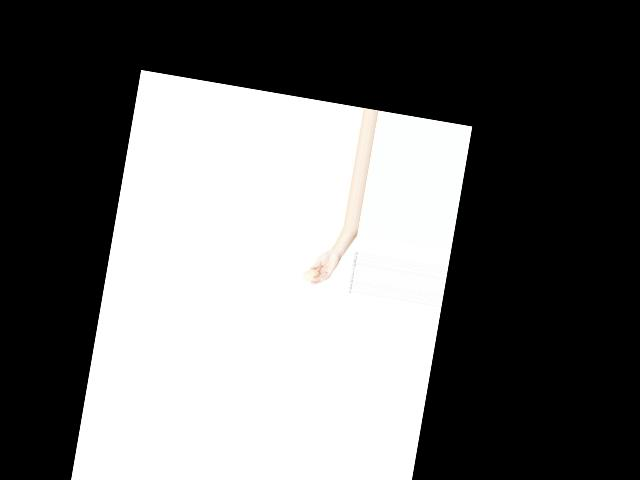egg: (302, 267, 320, 282)
